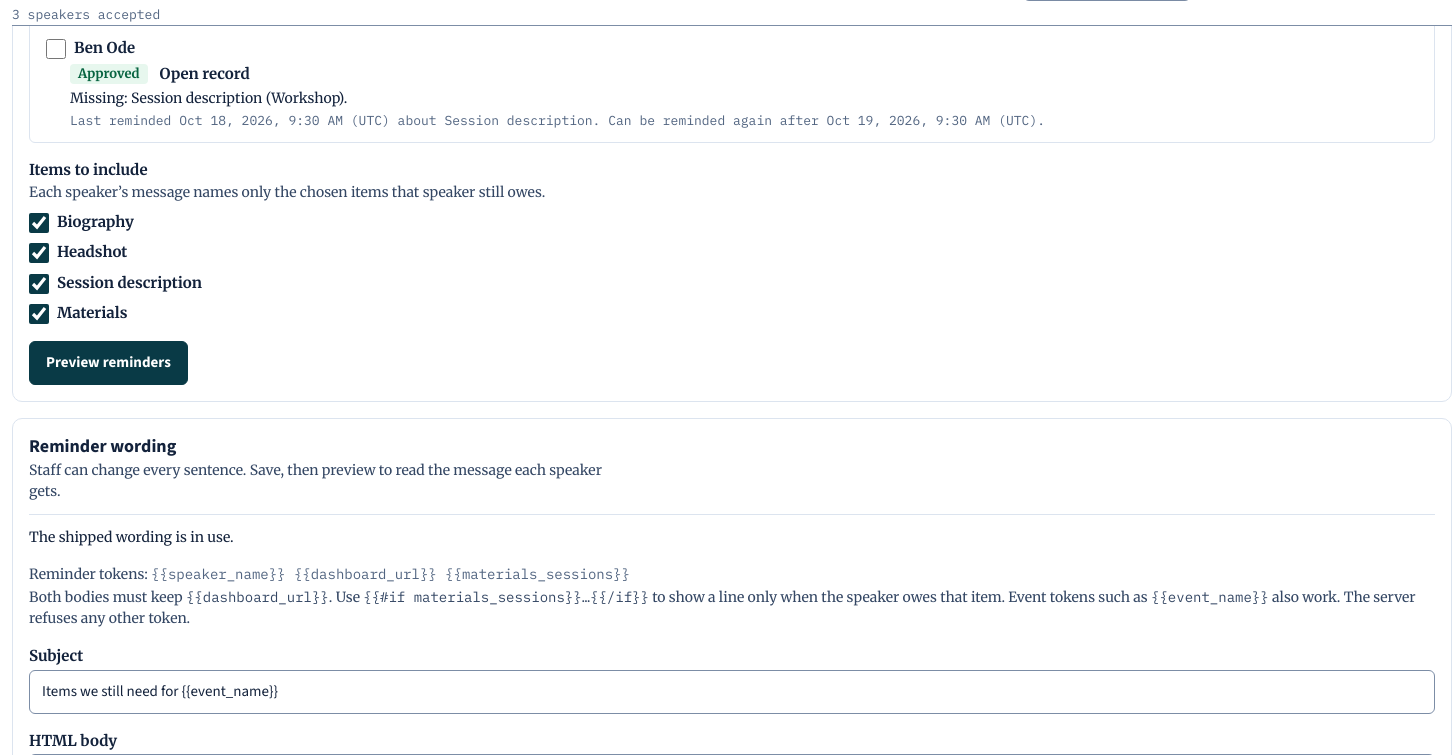
Test: speaker reminders list › says why when nothing is selected, and asks the server for nothing
(page scrolled)
Step 1. Click the button "Preview reminders" → [108, 363], box top-left (29, 341), bottom-right (188, 385)
(page scrolled)
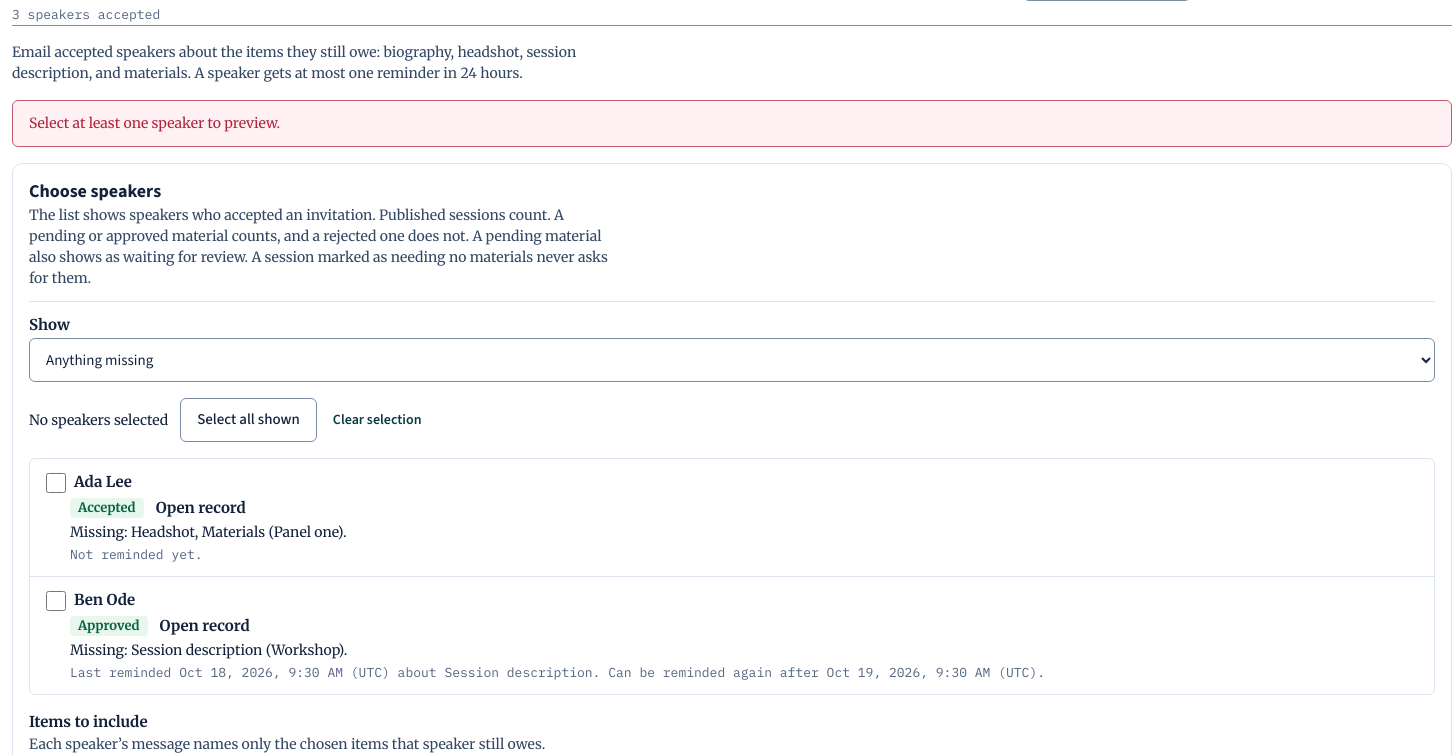
Check: the text "Select at least one speaker to preview." is shown, box top-left (12, 100), bottom-right (1451, 146)
